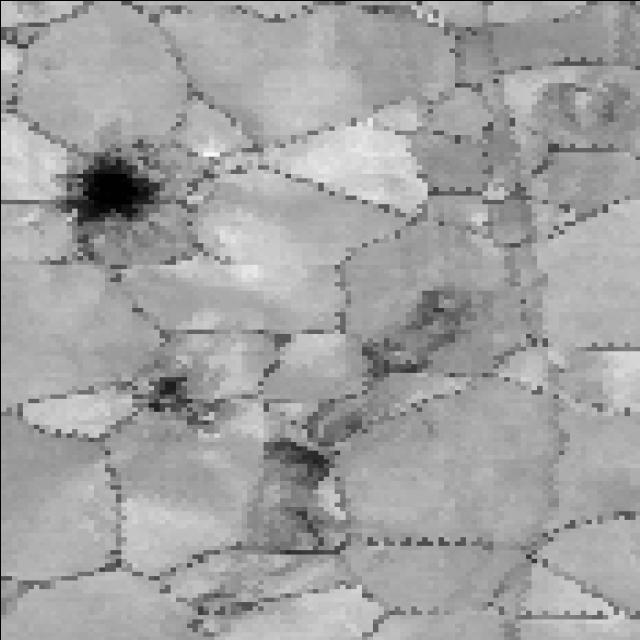good_void: (360, 281, 485, 388), (42, 153, 170, 241), (132, 365, 235, 448), (525, 69, 638, 139), (246, 492, 349, 551), (250, 426, 346, 482)
